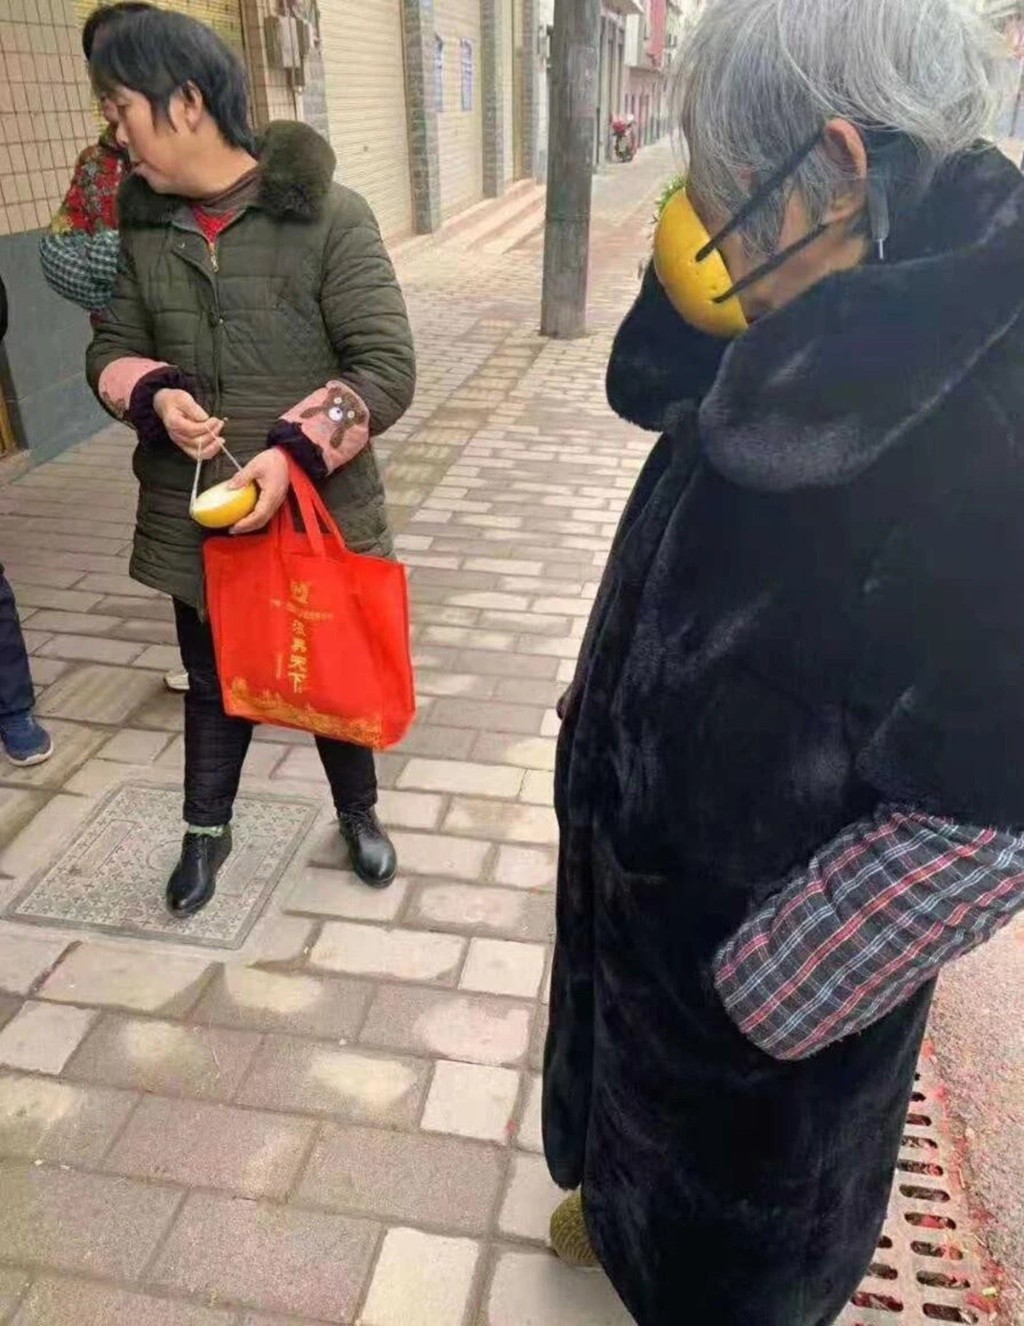face_no_mask: (89, 1, 252, 203)
face_with_mask: (645, 3, 1002, 346)
